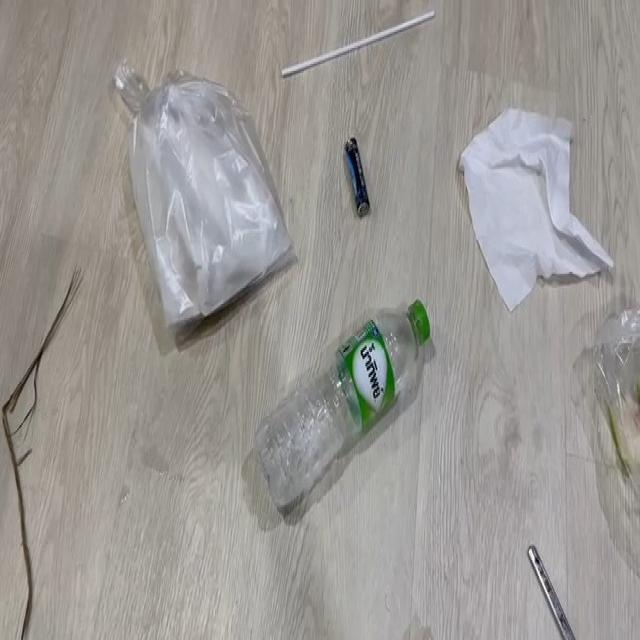Anorganik: (120, 40, 290, 296), (254, 292, 452, 492), (463, 78, 601, 302), (284, 1, 445, 66), (520, 519, 599, 640)
B3: (0, 234, 88, 640), (576, 302, 640, 498), (338, 117, 372, 221)
